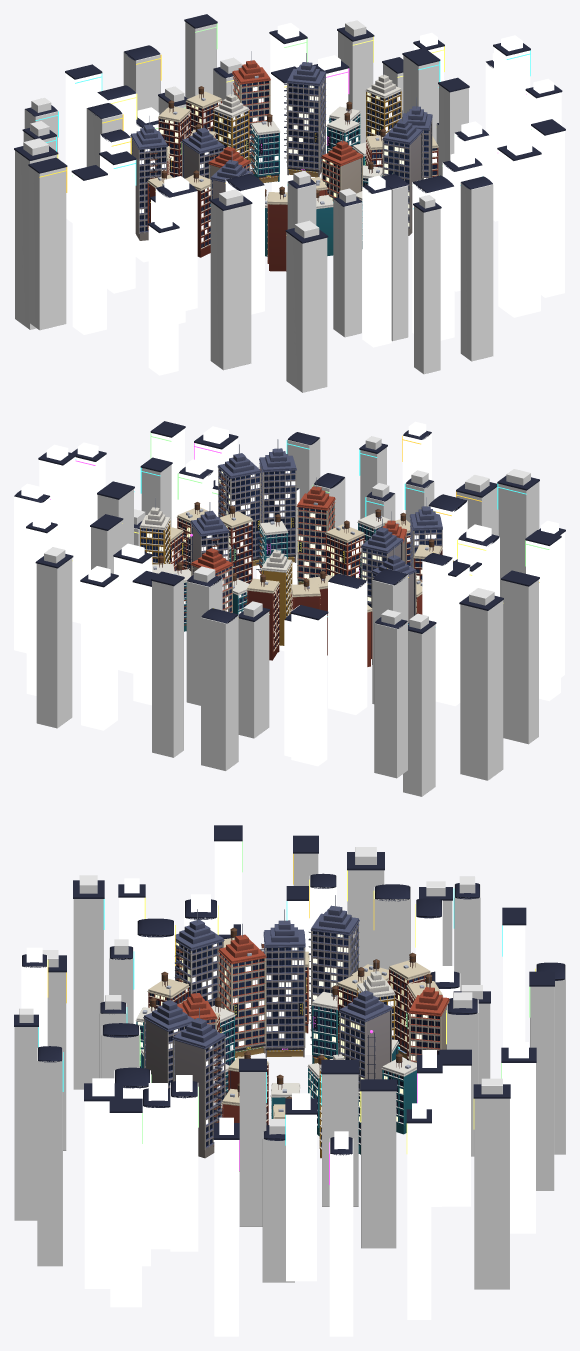
File: toit_ville.glb
3 renders of one model, top to bottom at view 1: azimuth 30°, elevation 25°; view 2: azimuth 150°, elevation 25°; view 3: azimuth 270°, elevation 25°, orthographic. The views are drawn at different scales.
Parts seen in each view (by area): view 1: Immeuble41, Immeuble36, Immeuble37, Immeuble33, Immeuble40, Immeuble34, Immeuble38, Immeuble35, Immeuble39, Immeuble42, Bat2_2, Immeuble11 (+42 smaller); view 2: Immeuble32, Immeuble25, Immeuble33, Immeuble28, Immeuble27, Immeuble29, Immeuble26, Immeuble30, Immeuble8, Immeuble31, Immeuble34, Immeuble6 (+48 smaller); view 3: Immeuble25, Immeuble42, Immeuble2, Immeuble36, Immeuble40, Immeuble22, Bat2_7, Immeuble41, Immeuble24, Immeuble43, Immeuble39, Immeuble26 (+45 smaller).
Part boxes in pixels (box(x1,y1,x2,y2)): Immeuble41: box(498, 150, 540, 317); Immeuble36: box(210, 202, 251, 370); Immeuble37: box(286, 232, 327, 392); Immeuble33: box(29, 166, 66, 330); Immeuble40: box(460, 182, 493, 361); Immeuble34: box(72, 173, 106, 334); Immeuble38: box(362, 186, 391, 347); Immeuble35: box(148, 226, 178, 375); Immeuble39: box(414, 206, 440, 374); Immeuble42: box(532, 126, 564, 297); Bat2_2: box(284, 53, 326, 177); Immeuble11: box(100, 155, 135, 293); Immeuble32: box(460, 600, 503, 780); Immeuble25: box(36, 558, 72, 728); Immeuble33: box(501, 579, 538, 744); Immeuble28: box(201, 614, 238, 770); Immeuble27: box(152, 579, 183, 757); Immeuble29: box(291, 614, 327, 766); Immeuble26: box(81, 577, 117, 730); Immeuble30: box(374, 621, 407, 778); Immeuble8: box(328, 581, 367, 714); Immeuble31: box(403, 624, 435, 796); Immeuble34: box(526, 538, 560, 701); Immeuble6: box(238, 611, 269, 738); Immeuble25: box(474, 1098, 509, 1289); Immeuble42: box(110, 1113, 141, 1307); Immeuble2: box(361, 1091, 396, 1248); Immeuble36: box(73, 899, 103, 1089); Immeuble40: box(37, 1048, 62, 1266); Immeuble22: box(286, 1114, 316, 1281); Bat2_7: box(260, 909, 305, 1057); Immeuble41: box(84, 1101, 110, 1288); Immeuble24: box(407, 1123, 431, 1319); Immeuble43: box(214, 1140, 238, 1336); Immeuble39: box(14, 1027, 38, 1220); Immeuble26: box(502, 1063, 535, 1233).
Bounding box in the file's own units: 281 × 118 × 226.
